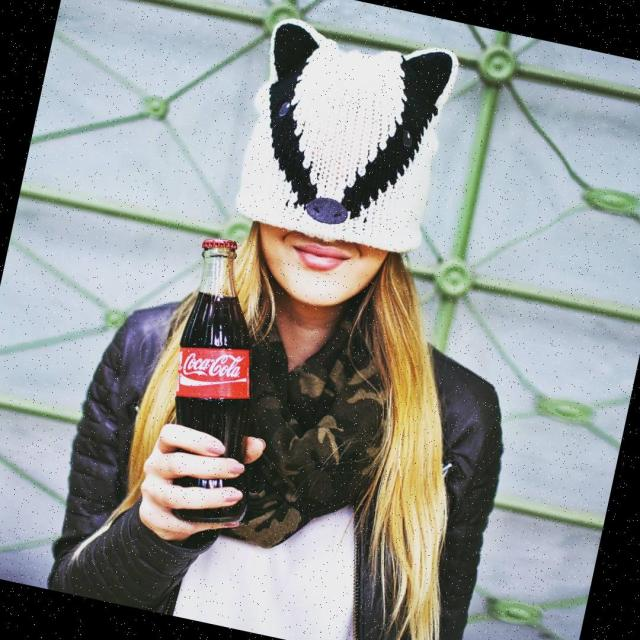coca-cola: (140, 232, 304, 534)
